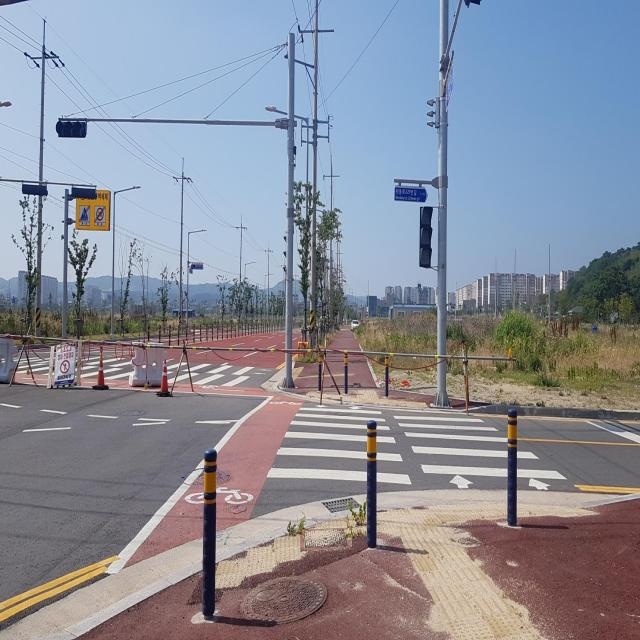횡단보도: (266, 403, 568, 493), (8, 348, 268, 391)
